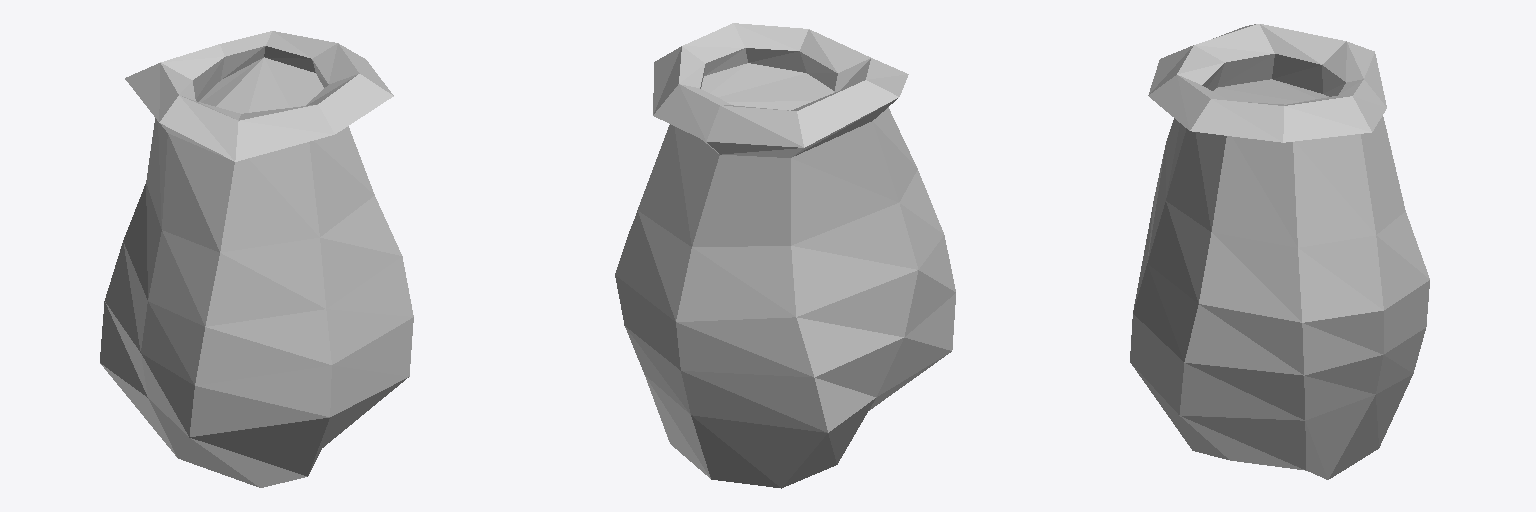
Rendered from Sponge_B_01_LOD2.obj.
3 views of the same model, side by side, from view 1: azimuth 30°, elevation 25°; view 2: azimuth 150°, elevation 25°; view 3: azimuth 270°, elevation 25° (orthographic).
Visible parts, largest first — view 1: Sponge_B_01_LOD2_Cylinder.426; view 2: Sponge_B_01_LOD2_Cylinder.426; view 3: Sponge_B_01_LOD2_Cylinder.426.
Part boxes in pixels (x1,y1,x2,y2): Sponge_B_01_LOD2_Cylinder.426: (100,31,413,487); Sponge_B_01_LOD2_Cylinder.426: (615,23,955,488); Sponge_B_01_LOD2_Cylinder.426: (1130,24,1429,479).
Bounding box in the file's own units: 2.58 × 3.64 × 2.59.